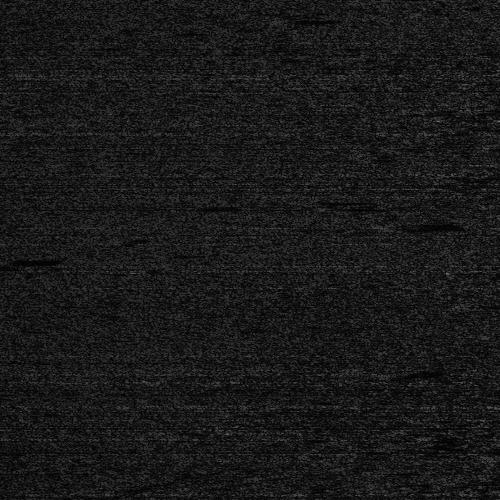rock: (375, 222, 428, 229)
shadow: (402, 222, 466, 229)
